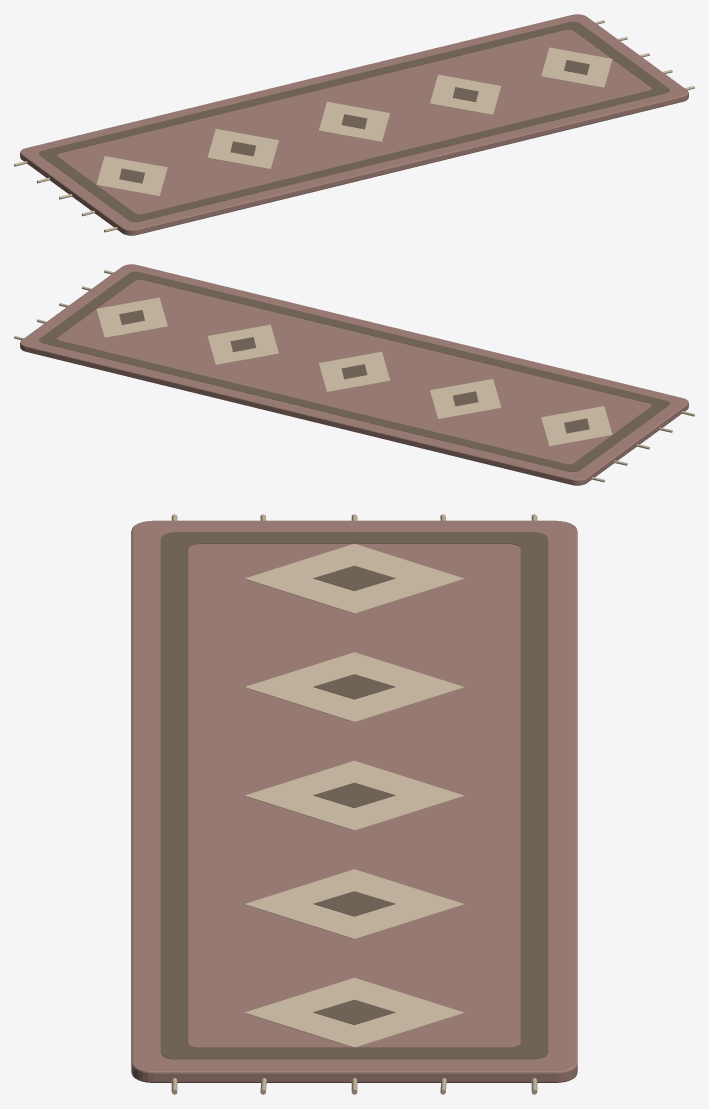
The model's file is runner.glb.
3 renders of one model, top to bottom at view 1: azimuth 30°, elevation 25°; view 2: azimuth 150°, elevation 25°; view 3: azimuth 270°, elevation 25°, orthographic. The views are drawn at different scales.
Parts seen in each view (by area): view 1: closed-textile-backing, woven-border, runner-lozenge-4, runner-lozenge-1, runner-lozenge-0, runner-lozenge-3, runner-lozenge-2; view 2: closed-textile-backing, woven-border, runner-lozenge-4, runner-lozenge-1, runner-lozenge-0, runner-lozenge-3, runner-lozenge-2; view 3: closed-textile-backing, woven-border, runner-lozenge-1, runner-lozenge-3, runner-lozenge-0, runner-lozenge-4, runner-lozenge-2, runner-centre-1, runner-centre-0, runner-centre-2, runner-centre-3, runner-centre-4.
Boxes of the visible parts, <box> form: closed-textile-backing: <box>20,14,688,235</box>; woven-border: <box>39,21,669,221</box>; runner-lozenge-4: <box>541,47,612,87</box>; runner-lozenge-1: <box>207,129,278,169</box>; runner-lozenge-0: <box>96,156,167,196</box>; runner-lozenge-3: <box>430,74,501,114</box>; runner-lozenge-2: <box>319,101,390,141</box>; closed-textile-backing: <box>20,264,688,485</box>; woven-border: <box>39,271,669,471</box>; runner-lozenge-4: <box>96,297,167,337</box>; runner-lozenge-1: <box>430,379,501,419</box>; runner-lozenge-0: <box>541,406,612,446</box>; runner-lozenge-3: <box>207,324,278,364</box>; runner-lozenge-2: <box>318,351,389,391</box>; closed-textile-backing: <box>131,520,577,1082</box>; woven-border: <box>160,532,548,1059</box>; runner-lozenge-1: <box>244,652,464,722</box>; runner-lozenge-3: <box>244,869,464,939</box>; runner-lozenge-0: <box>244,543,464,613</box>; runner-lozenge-4: <box>244,977,464,1047</box>; runner-lozenge-2: <box>244,760,464,830</box>; runner-centre-1: <box>313,674,395,699</box>; runner-centre-0: <box>313,565,395,590</box>; runner-centre-2: <box>313,782,395,807</box>; runner-centre-3: <box>313,891,395,916</box>; runner-centre-4: <box>313,999,395,1024</box>.
Bounding box in the file's own units: 2.97 × 0.0303 × 0.973.
